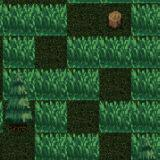Obstacle: (3, 101, 35, 133), (100, 3, 131, 36)
Slow: (67, 36, 160, 68), (35, 69, 67, 160), (131, 68, 160, 160), (0, 3, 67, 36), (3, 36, 35, 101), (100, 100, 131, 132), (68, 69, 99, 100), (132, 4, 160, 36), (68, 133, 99, 160)
